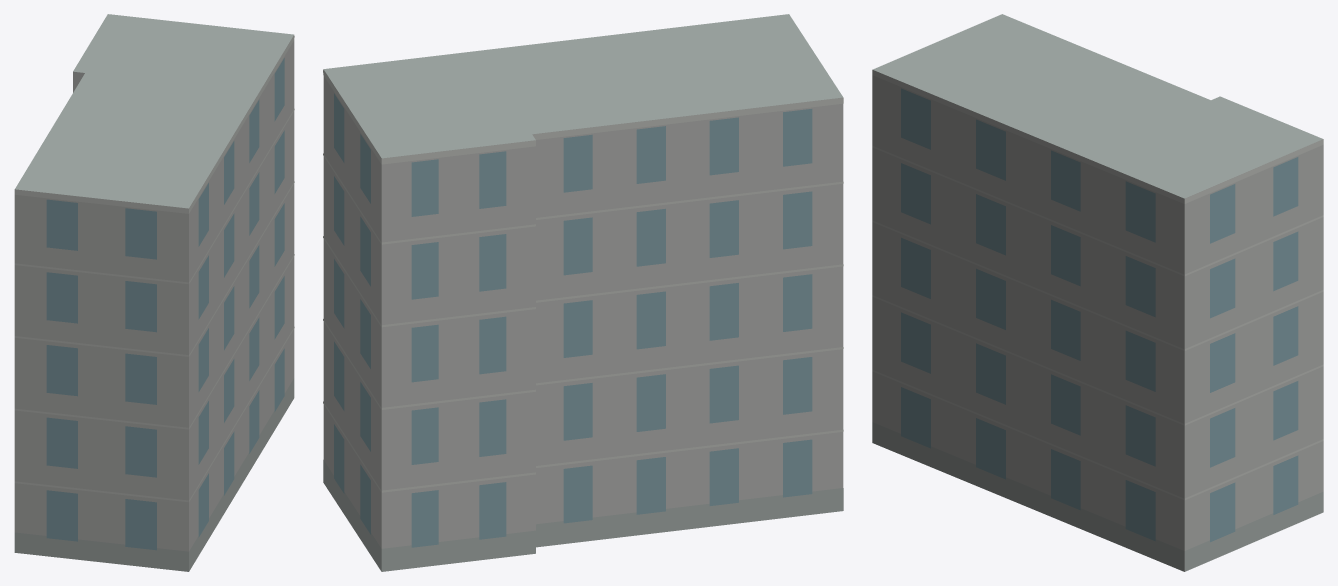
The model's file is survey-upis-32905635.glb.
The picture shows the model from 3 angles, left to right: view 1: azimuth 30°, elevation 25°; view 2: azimuth 150°, elevation 25°; view 3: azimuth 270°, elevation 25°; orthographic projection. The views are drawn at different scales.
Parts seen in each view (by area): view 1: survey-upis-32905635.tmp; view 2: survey-upis-32905635.tmp; view 3: survey-upis-32905635.tmp.
Boxes of the visible parts, left/top/right/bottom form: survey-upis-32905635.tmp: left=14, top=14, right=294, bottom=571; survey-upis-32905635.tmp: left=323, top=14, right=843, bottom=571; survey-upis-32905635.tmp: left=872, top=14, right=1323, bottom=571.
Bounding box in the file's own units: 17.41 × 16.4 × 17.98.
